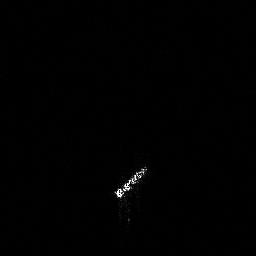ship: (107, 162, 150, 202)
